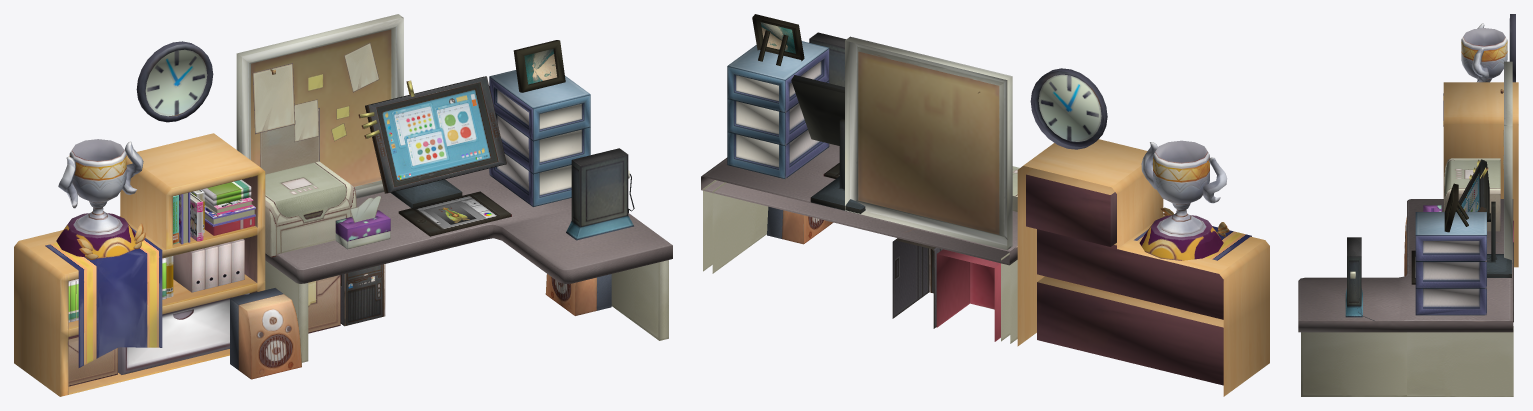
Rendered from wz_zhuozi.FBX.
3 views of the same model, side by side, from view 1: azimuth 30°, elevation 25°; view 2: azimuth 150°, elevation 25°; view 3: azimuth 270°, elevation 25° (orthographic). The views are drawn at different scales.
Parts seen in each view (by area): view 1: wz_dianniaozhuo, wz_pvpzhuozi, wz_jiangbei, wz_shu_08, wz_xiangkuang, wz_wenjiandai; view 2: wz_dianniaozhuo, wz_pvpzhuozi, wz_jiangbei, wz_xiangkuang; view 3: wz_dianniaozhuo, wz_pvpzhuozi, wz_jiangbei, wz_xiangkuang.
Part boxes in pixels (x1,y1,x2,y2): wz_dianniaozhuo: (230, 14, 672, 379); wz_pvpzhuozi: (14, 41, 265, 396); wz_jiangbei: (56, 139, 145, 259); wz_shu_08: (165, 189, 255, 297); wz_xiangkuang: (513, 40, 565, 92); wz_wenjiandai: (68, 336, 117, 386); wz_dianniaozhuo: (701, 32, 1019, 343); wz_pvpzhuozi: (1017, 68, 1269, 396); wz_jiangbei: (1139, 140, 1229, 260); wz_xiangkuang: (752, 14, 804, 65); wz_dianniaozhuo: (1298, 61, 1513, 396); wz_pvpzhuozi: (1443, 14, 1518, 267); wz_jiangbei: (1461, 23, 1507, 82); wz_xiangkuang: (1444, 183, 1468, 232).
Size of the model in its own units: 10.25 by 5.38 by 4.56.
